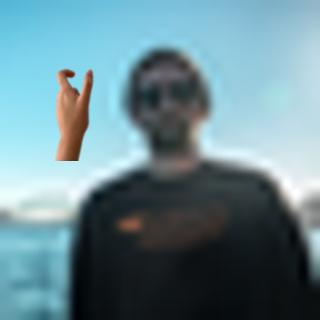Irritated: (50, 56, 100, 159)
